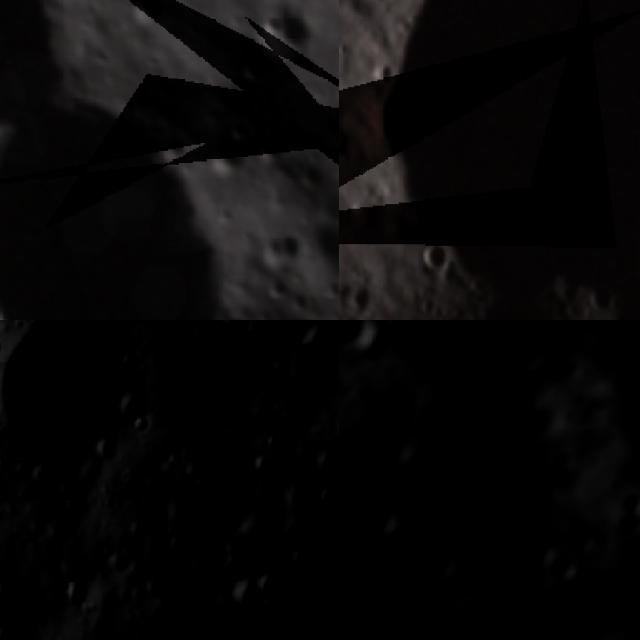crater: (0, 64, 282, 320), (0, 320, 132, 461), (0, 0, 113, 164), (239, 0, 327, 80), (250, 220, 314, 278), (410, 226, 459, 288), (189, 331, 236, 394), (349, 496, 408, 546), (244, 122, 297, 176), (113, 0, 176, 39), (254, 320, 311, 363), (224, 45, 277, 90), (203, 132, 252, 179), (372, 429, 422, 472), (518, 532, 564, 578), (215, 106, 261, 151), (28, 456, 70, 504), (284, 539, 324, 583), (115, 386, 154, 428), (339, 320, 384, 355), (548, 550, 588, 589), (301, 320, 339, 361), (228, 576, 262, 618), (162, 528, 196, 568), (97, 329, 129, 366), (254, 570, 281, 612), (55, 578, 90, 610), (187, 555, 219, 590), (91, 436, 123, 470), (311, 447, 339, 480), (623, 528, 640, 580), (250, 451, 278, 480), (312, 482, 338, 512), (617, 566, 640, 599), (220, 320, 251, 341), (631, 320, 640, 366), (169, 320, 193, 333)
